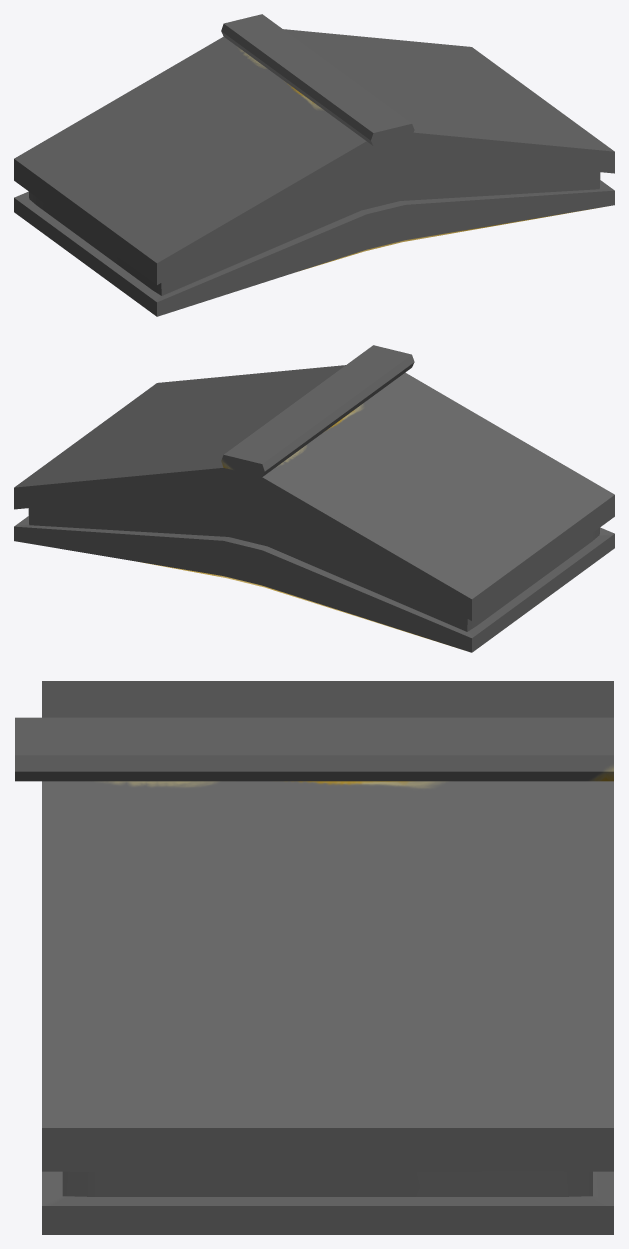
Rendered from menu_roof.fbx.
The picture shows the model from 3 angles, top to bottom: view 1: azimuth 30°, elevation 25°; view 2: azimuth 150°, elevation 25°; view 3: azimuth 270°, elevation 25°; orthographic projection. The views are drawn at different scales.
Parts seen in each view (by area): view 1: Box034; view 2: Box034; view 3: Box034.
Boxes of the visible parts, left/top/right/bottom form: Box034: left=14, top=14, right=614, bottom=316; Box034: left=14, top=345, right=614, bottom=652; Box034: left=15, top=681, right=613, bottom=1234.
Bounding box in the file's own units: 81.08 × 23.27 × 45.92.
1 material, 1 textured.
